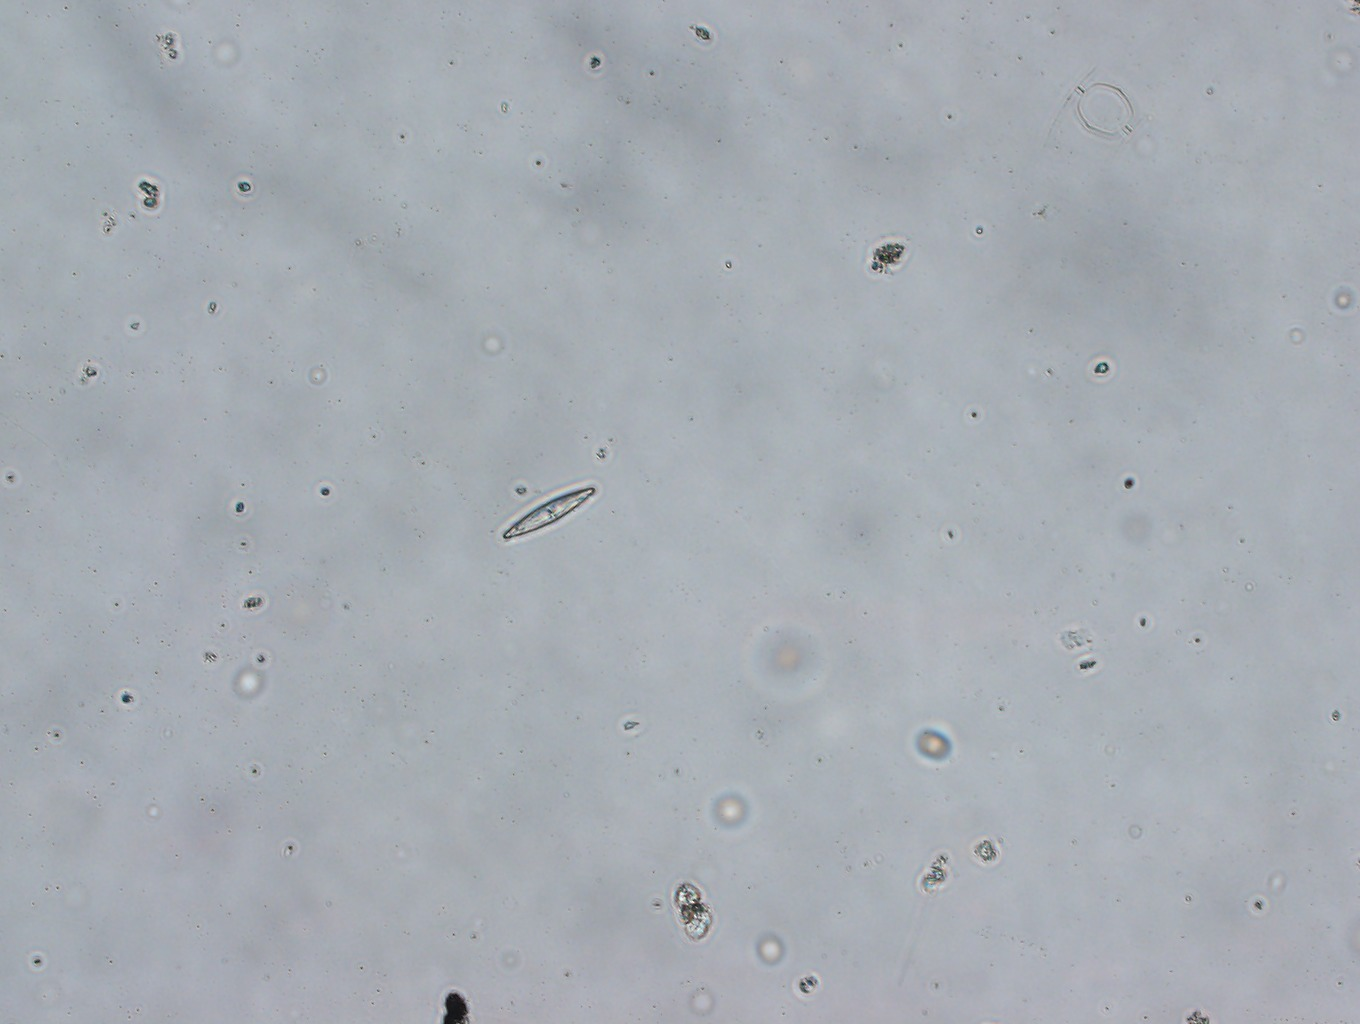navicula: (489, 478, 601, 544)
